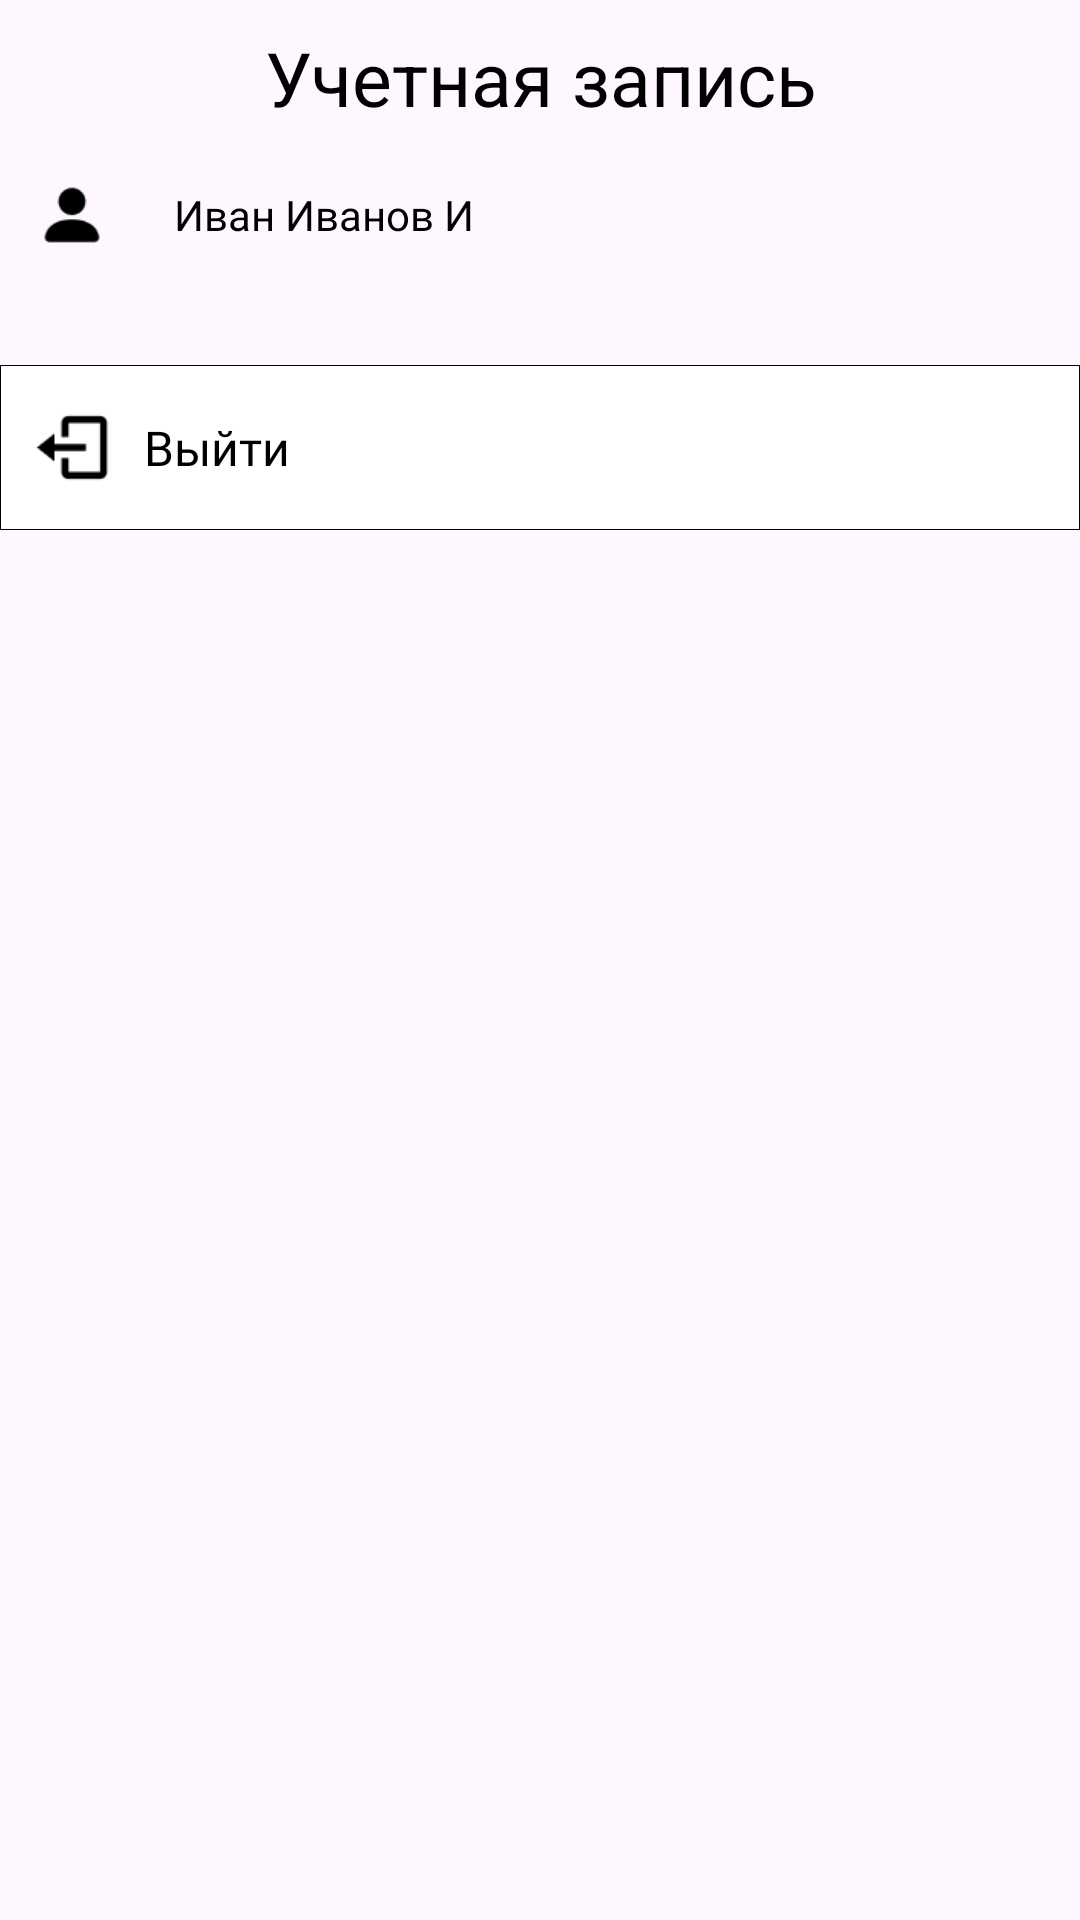

Named icons in this screenshot (1080*1920) and their centers, [x,y]:
log out: [72,447]
user: [72,215]
